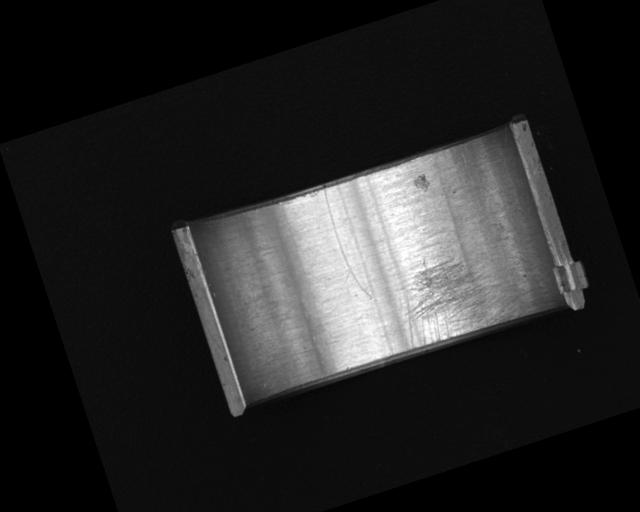bruise: (410, 172, 431, 194)
nick: (319, 182, 373, 304)
scratch: (381, 234, 515, 353)
